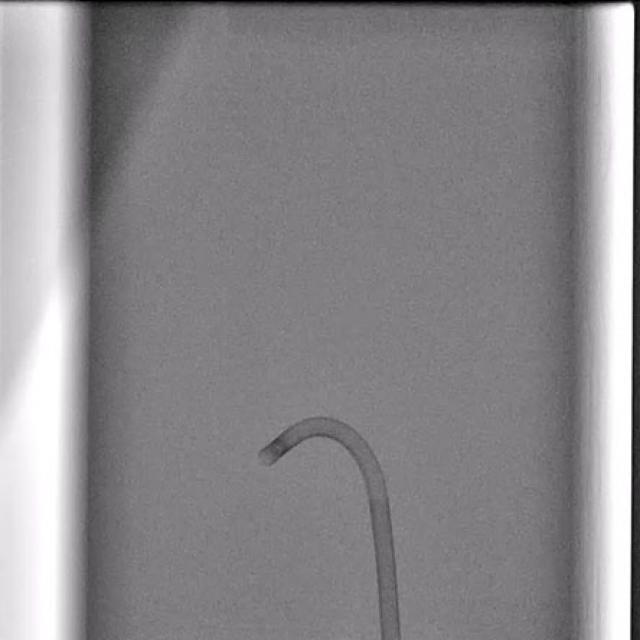bend: (367, 488, 389, 502)
entry: (381, 635, 400, 640)
marker: (268, 437, 293, 457)
tip: (258, 451, 276, 466)
